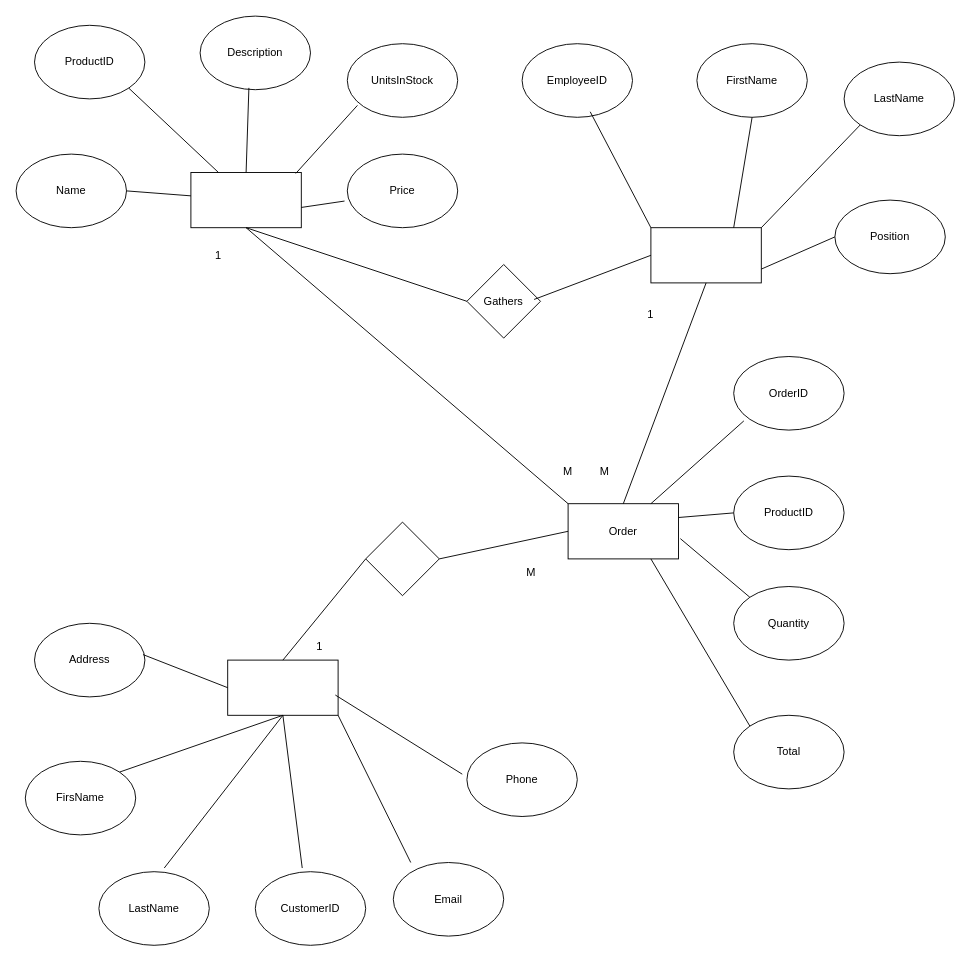
Some shapes in this 971 by 961 pixel diagram are drawn without their labels. The box of each missing label's shape, as (x1, y1, x2, y2) in pixels:
Buys: (365, 521, 439, 596)
Customer: (227, 659, 338, 715)
Employee: (650, 227, 761, 283)
Parts: (190, 172, 301, 228)
